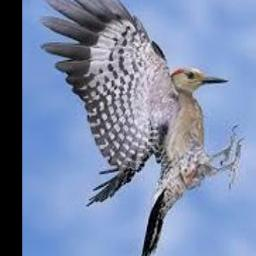Woodpecker: (40, 0, 244, 256)
